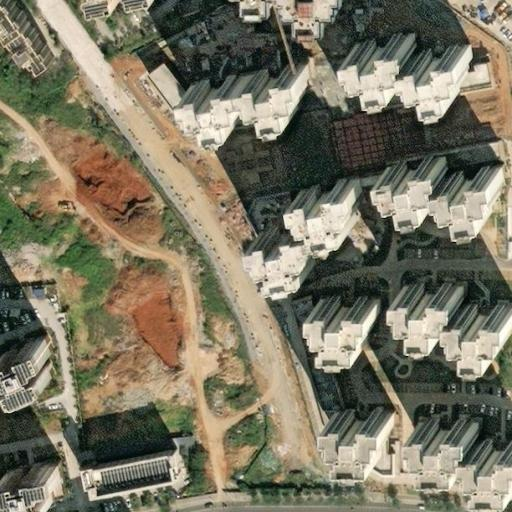building: (188, 67, 313, 133), (350, 36, 477, 99), (393, 163, 508, 229), (427, 421, 512, 471), (76, 451, 165, 496), (271, 225, 336, 285), (312, 184, 382, 235), (337, 421, 399, 475), (0, 333, 51, 395), (408, 287, 468, 336), (86, 434, 189, 462), (326, 302, 386, 350), (290, 301, 331, 362), (3, 460, 62, 501), (463, 310, 512, 357), (313, 384, 342, 419), (305, 357, 334, 390), (0, 489, 35, 512), (242, 442, 251, 453), (236, 443, 243, 454)
